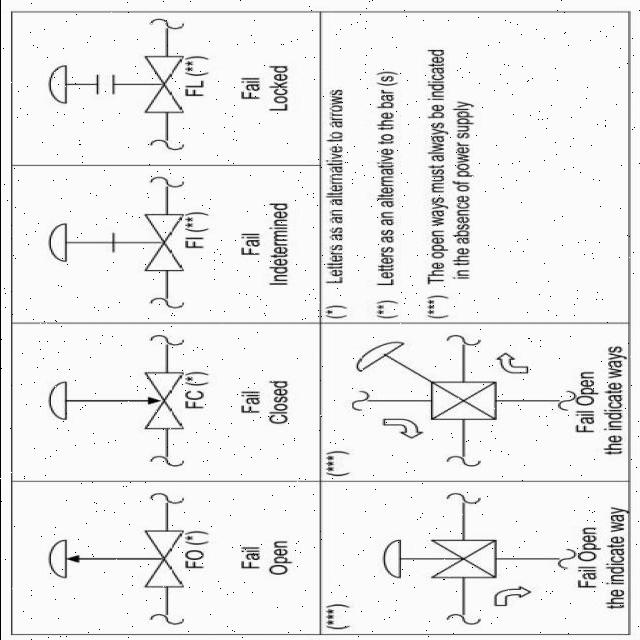Fail Closed Safe Position: (38, 357, 188, 441)
Fail Indeterminate Safe Position: (30, 200, 179, 283)
Fail Lock Safe Position: (26, 51, 184, 121)
Fail Open Safe Position: (37, 524, 186, 596)
